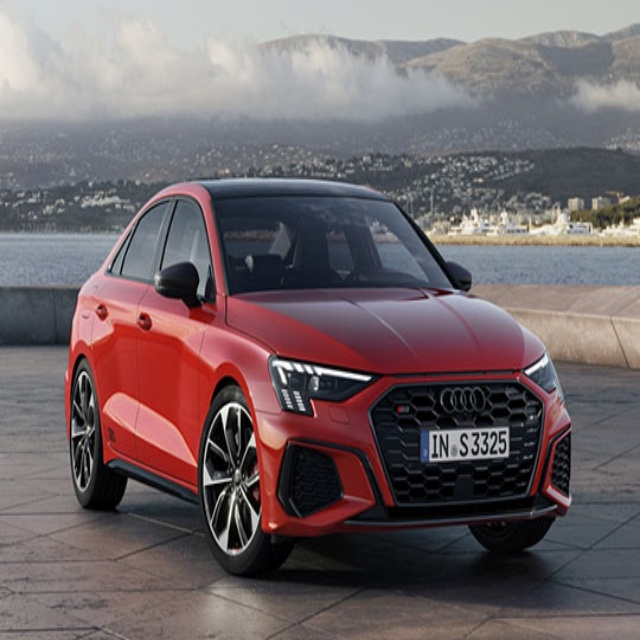Car: (64, 176, 572, 580)
